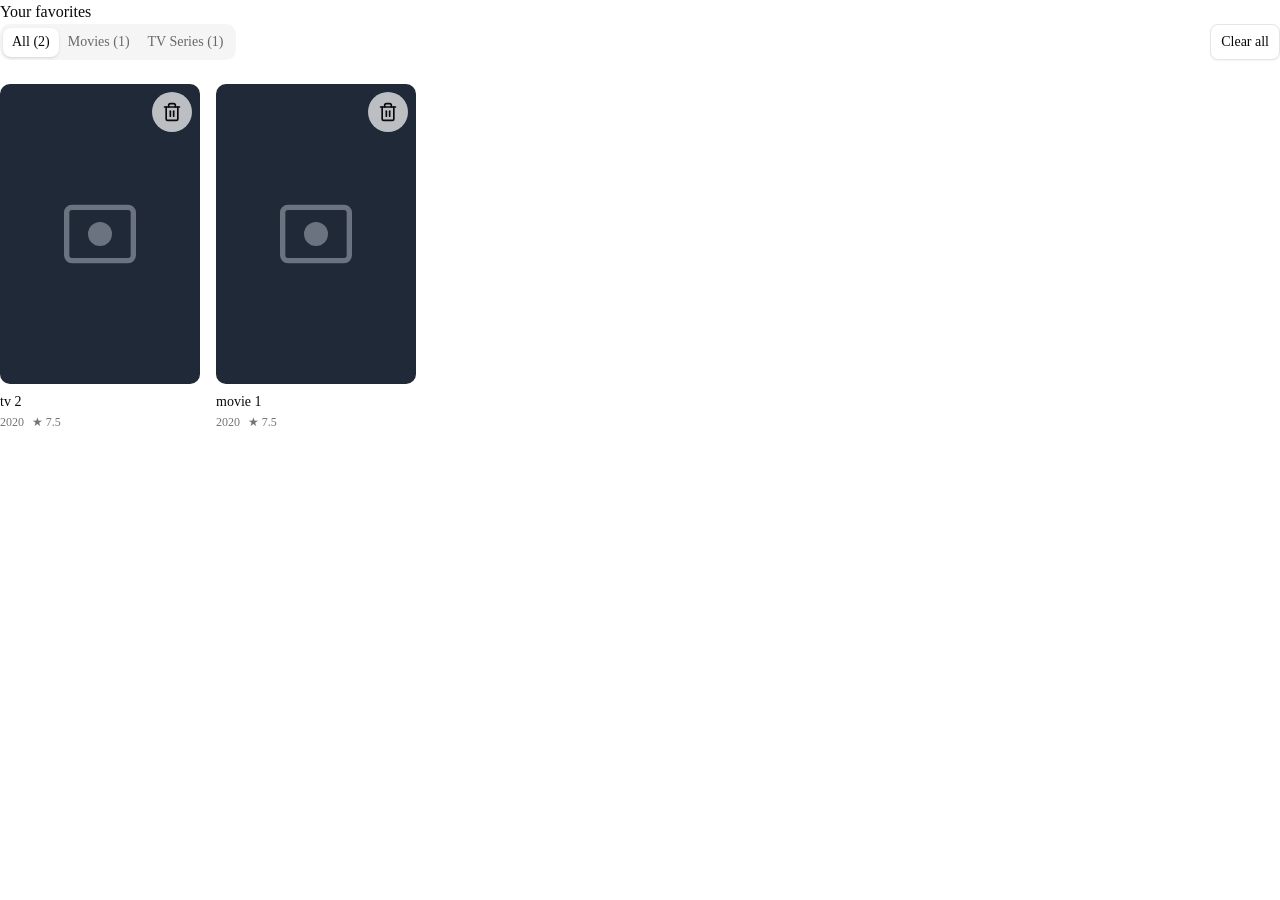
Test case: FavoritesView › clear all › keeps everything when the confirmation is cancelled
The image size is (1280, 900).
Click the button "Clear all": (1245, 42) [1210,24,1279,60]
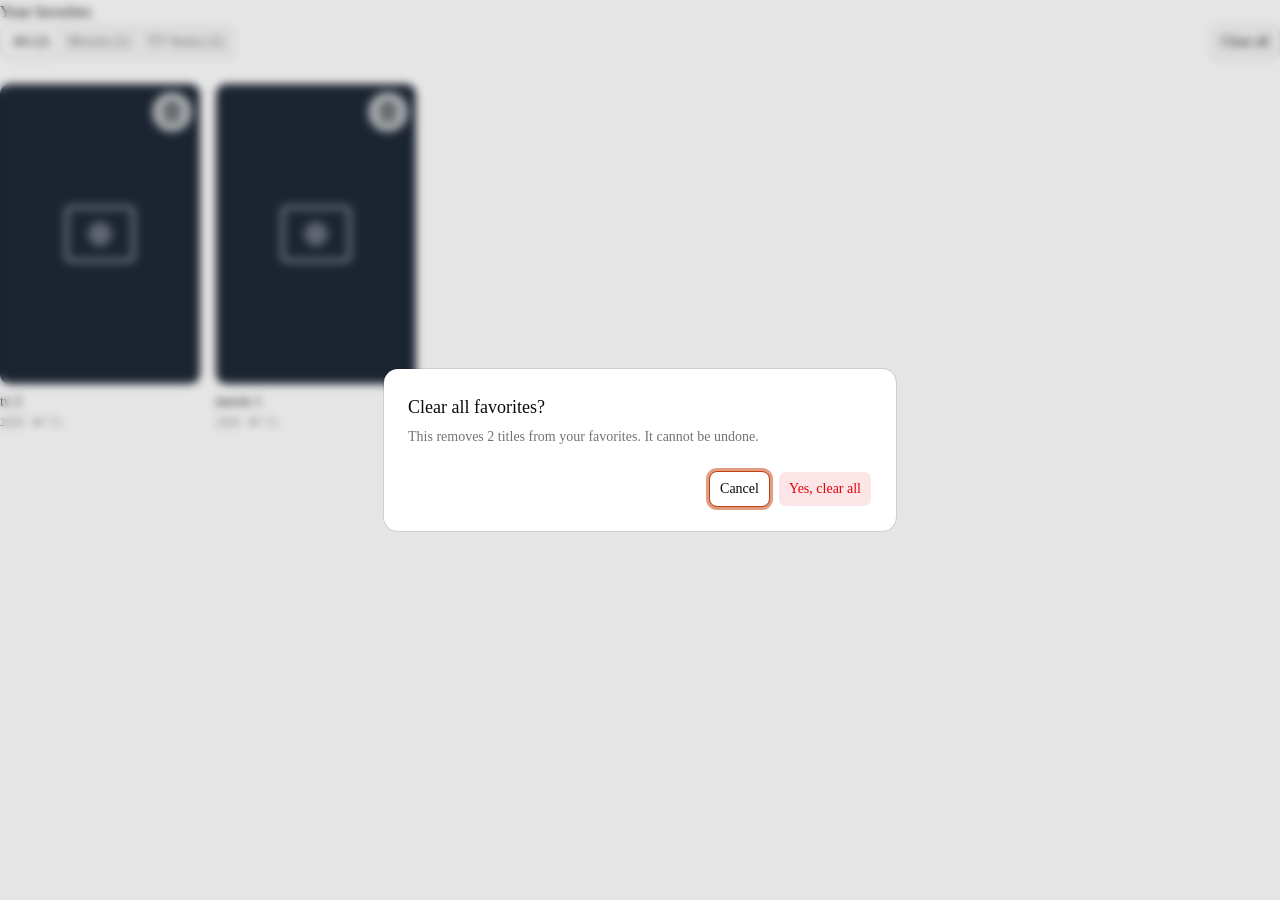
Expected: the dialog "Clear all favorites?" shows "This removes 2 titles", [408,429,759,444]
Click the button "Cancel": (740, 489) [709,471,770,507]
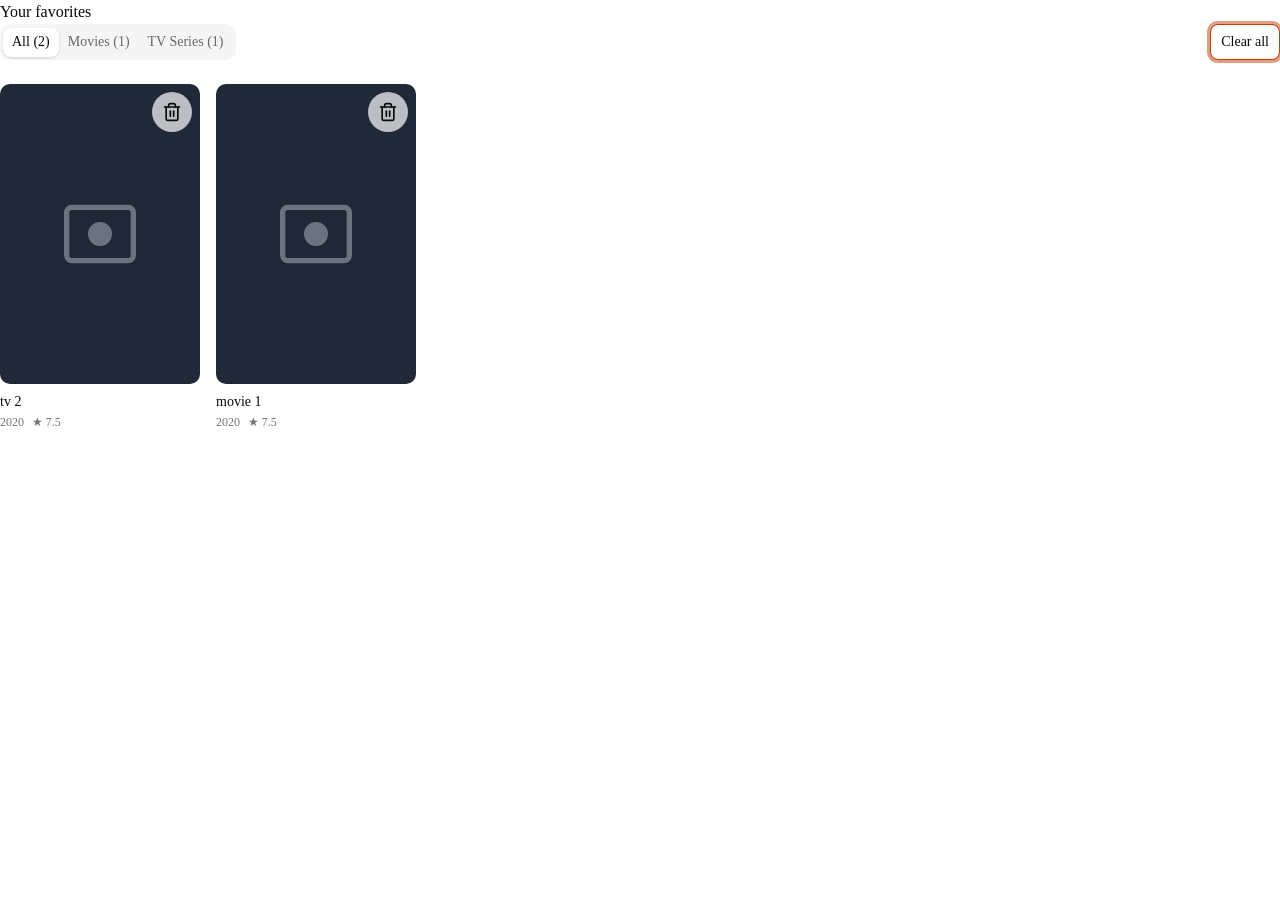
Expected: the dialog is gone
